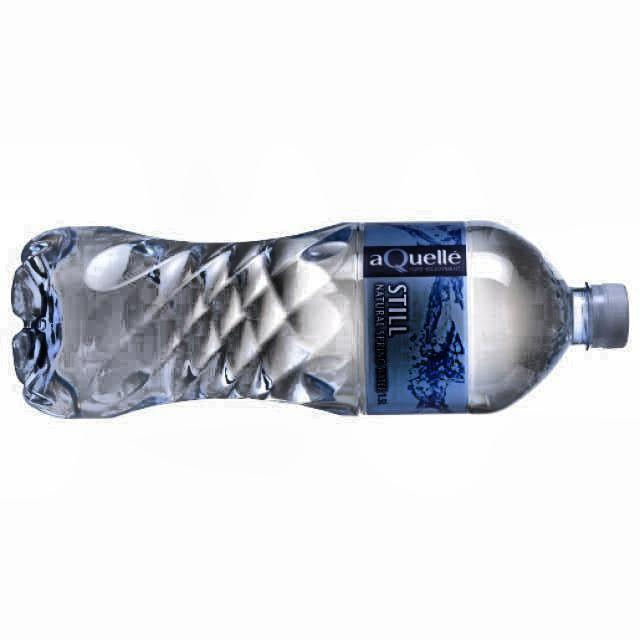plastic: (12, 222, 629, 418)
